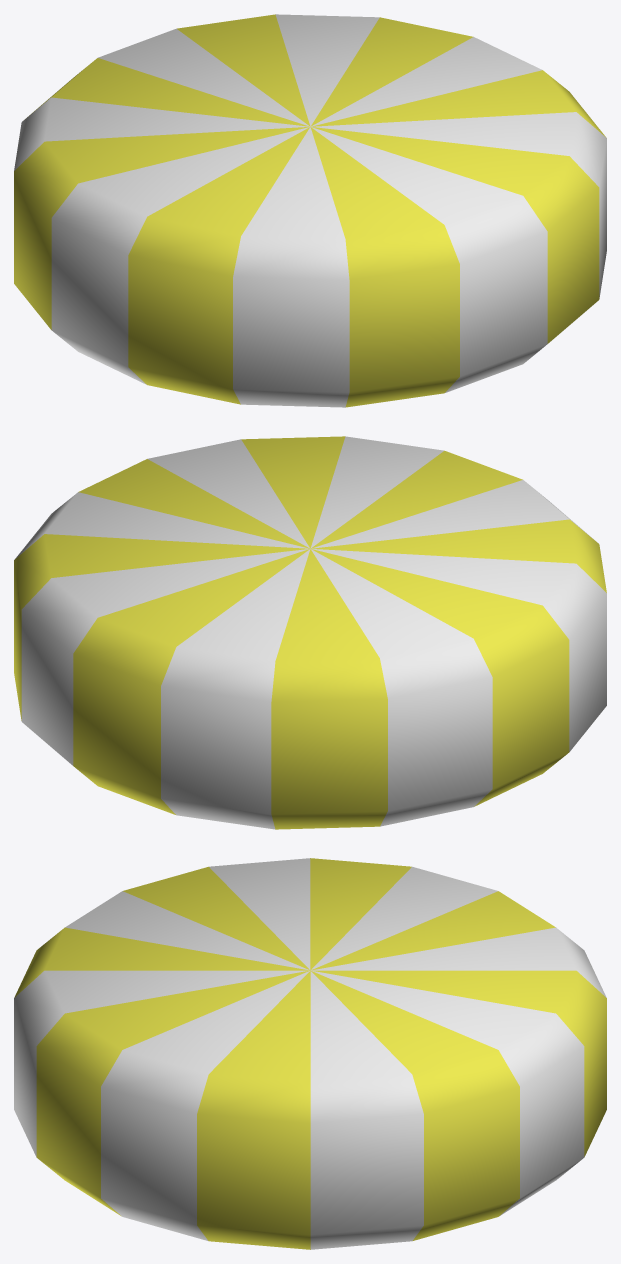
Rendered from sugar_2.fbx.
The picture shows the model from 3 angles, top to bottom: view 1: azimuth 30°, elevation 25°; view 2: azimuth 150°, elevation 25°; view 3: azimuth 270°, elevation 25°; orthographic projection.
Visible parts, largest first — view 1: sugar_3; view 2: sugar_3; view 3: sugar_3.
Boxes of the visible parts, x1,y1,x2,y2 form: sugar_3: (14,14,606,407); sugar_3: (14,436,606,829); sugar_3: (14,858,606,1249).
Bounding box in the file's own units: 28.12 × 8.73 × 28.12.
